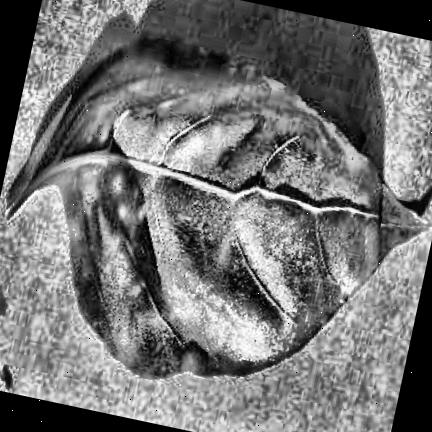leaf: (7, 39, 430, 379)
